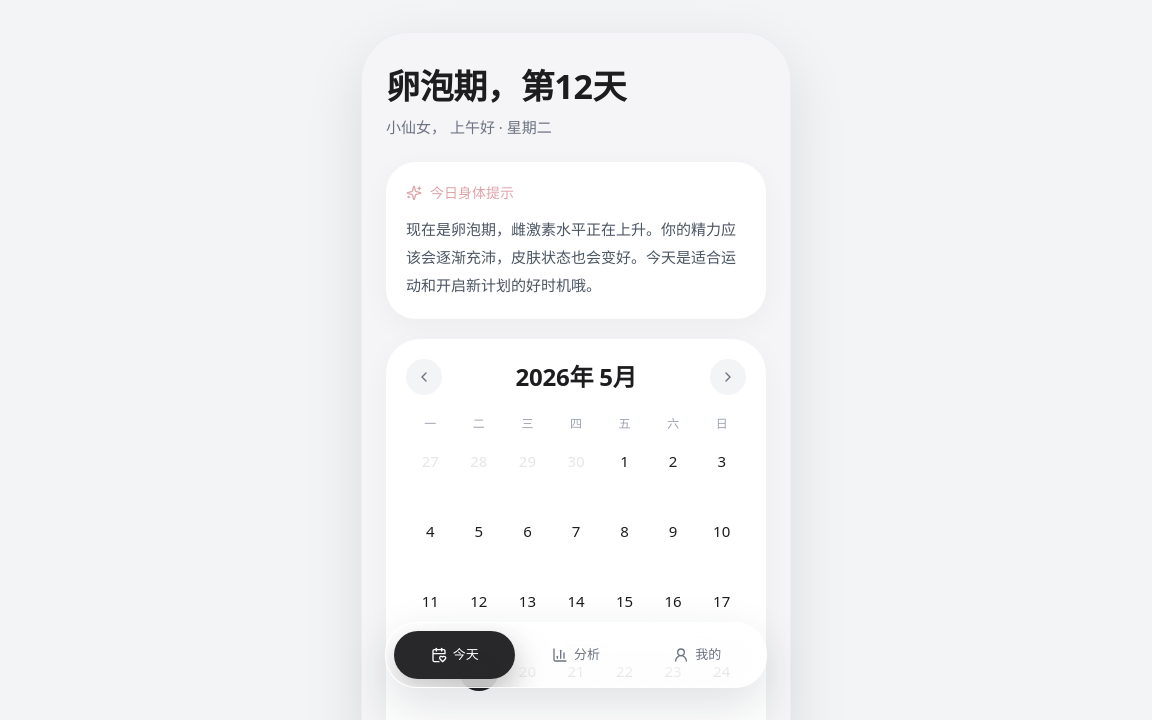
Scenario: Half Moon app › asks for confirmation before clearing local cache and shows success feedback
The image size is (1152, 720).
Step 1. Click the button "我的" → (697, 655), box left=637, top=631, right=758, bottom=679
(page scrolled)
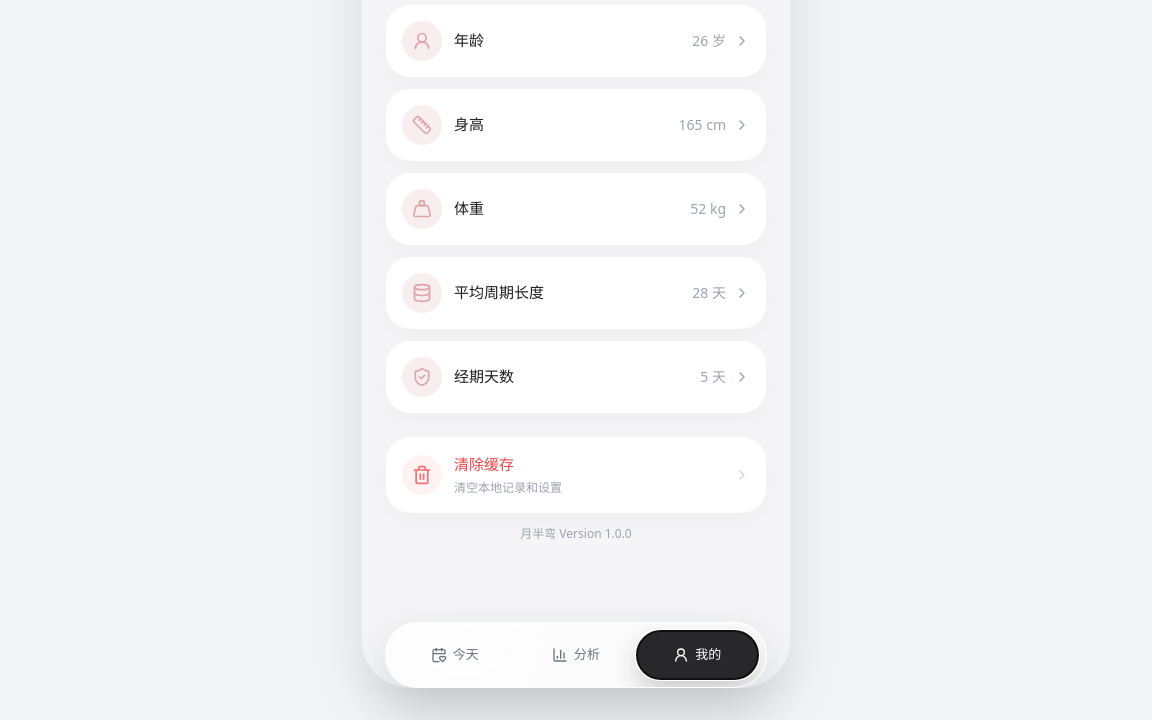
Step 2. Click the button "清除缓存 清空本地记录和设置" → (422, 475), box left=386, top=436, right=766, bottom=513
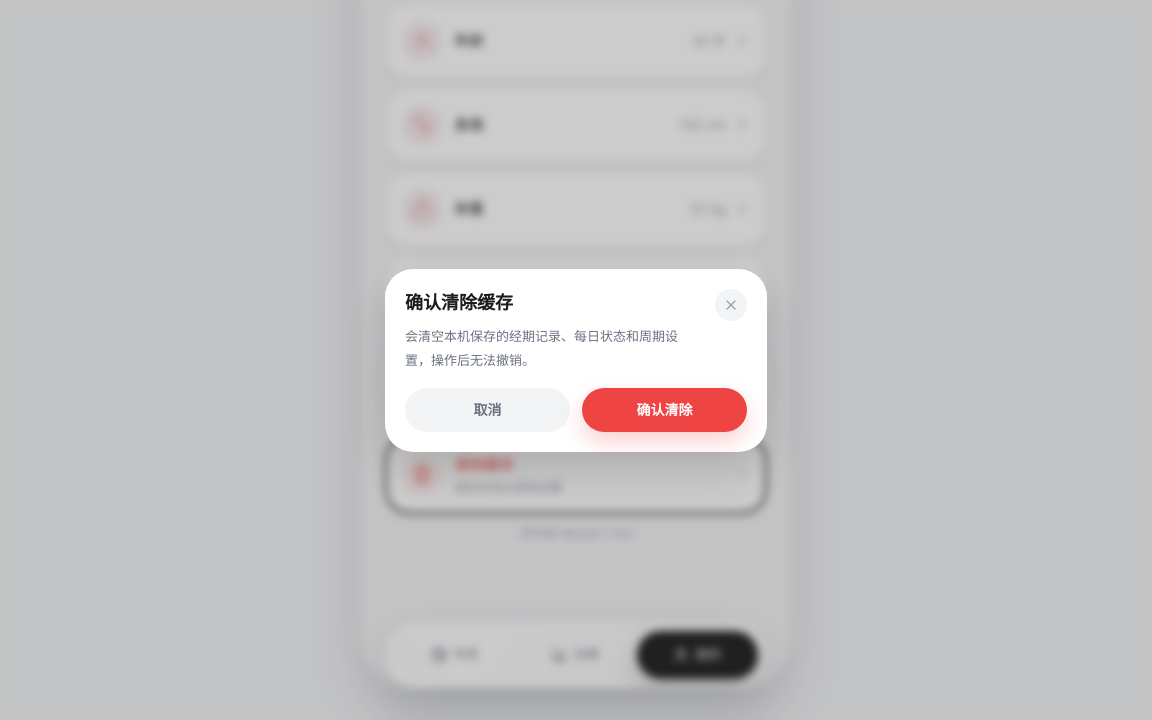
Check: the dialog "确认清除缓存" is shown, box left=385, top=268, right=767, bottom=452
Step 3. Click the button "确认清除" → (664, 410), box left=582, top=388, right=747, bottom=432
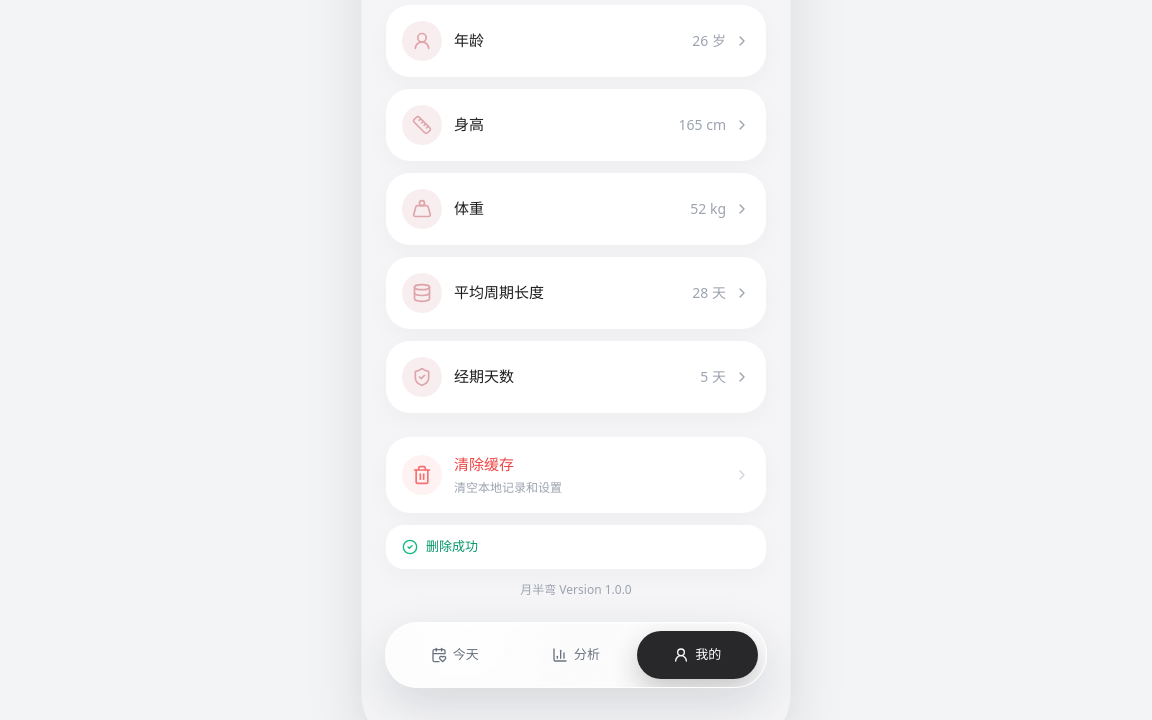
Check: the text "删除成功" is shown, box left=426, top=537, right=478, bottom=556
Check: the heading "确认清除缓存" is gone
